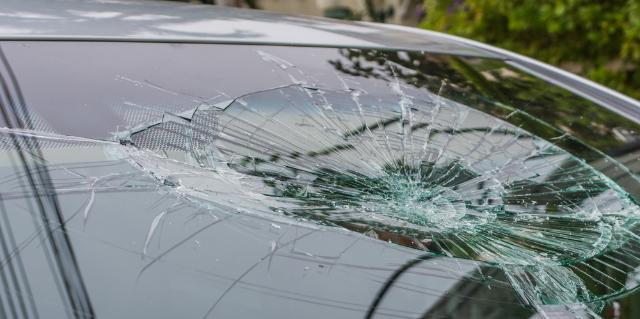glass shatter: (0, 39, 640, 319)
